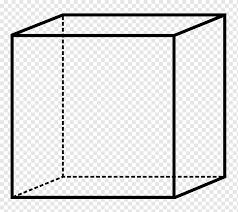cubos: (10, 10, 229, 203)
